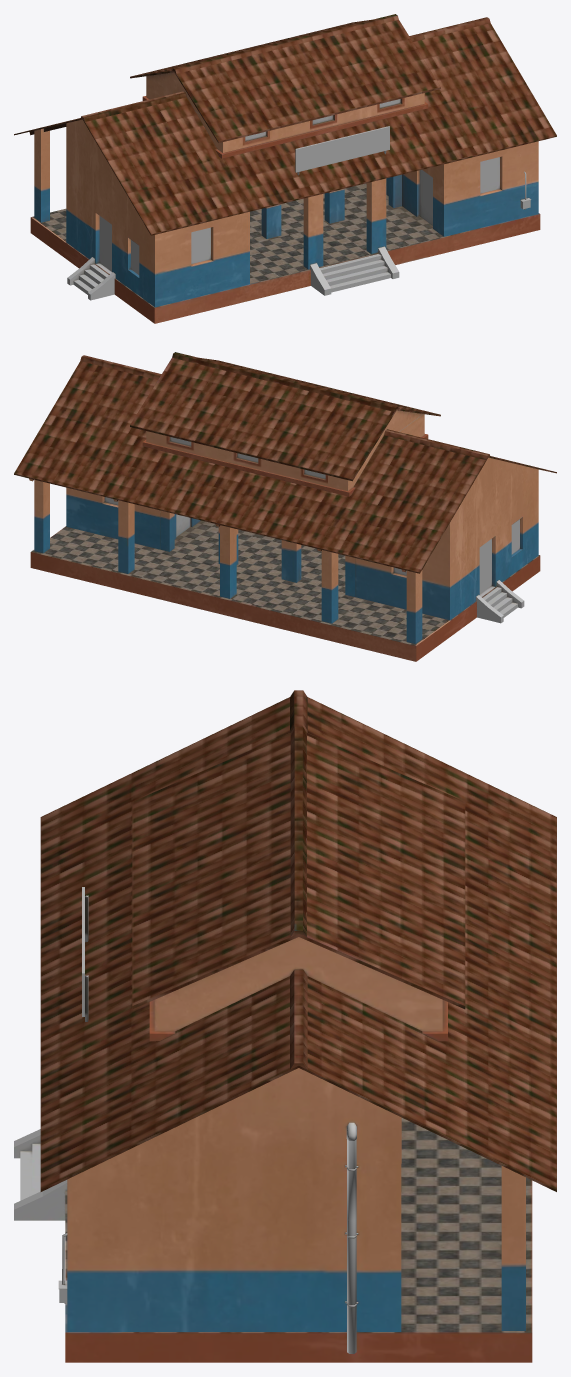
File: station-building.glb
3 views of the same model, one above another, from view 1: azimuth 30°, elevation 25°; view 2: azimuth 150°, elevation 25°; view 3: azimuth 270°, elevation 25° (orthographic). The views are drawn at different scales.
Visible parts, largest first — view 1: defaultMaterial; view 2: defaultMaterial; view 3: defaultMaterial.
Part boxes in pixels (left/top/right/bottom): defaultMaterial: left=14, top=14, right=556, bottom=323; defaultMaterial: left=14, top=352, right=556, bottom=661; defaultMaterial: left=14, top=690, right=556, bottom=1362.
Bounding box in the file's own units: 17.74 × 7.66 × 10.56.
1 material, 1 textured.
